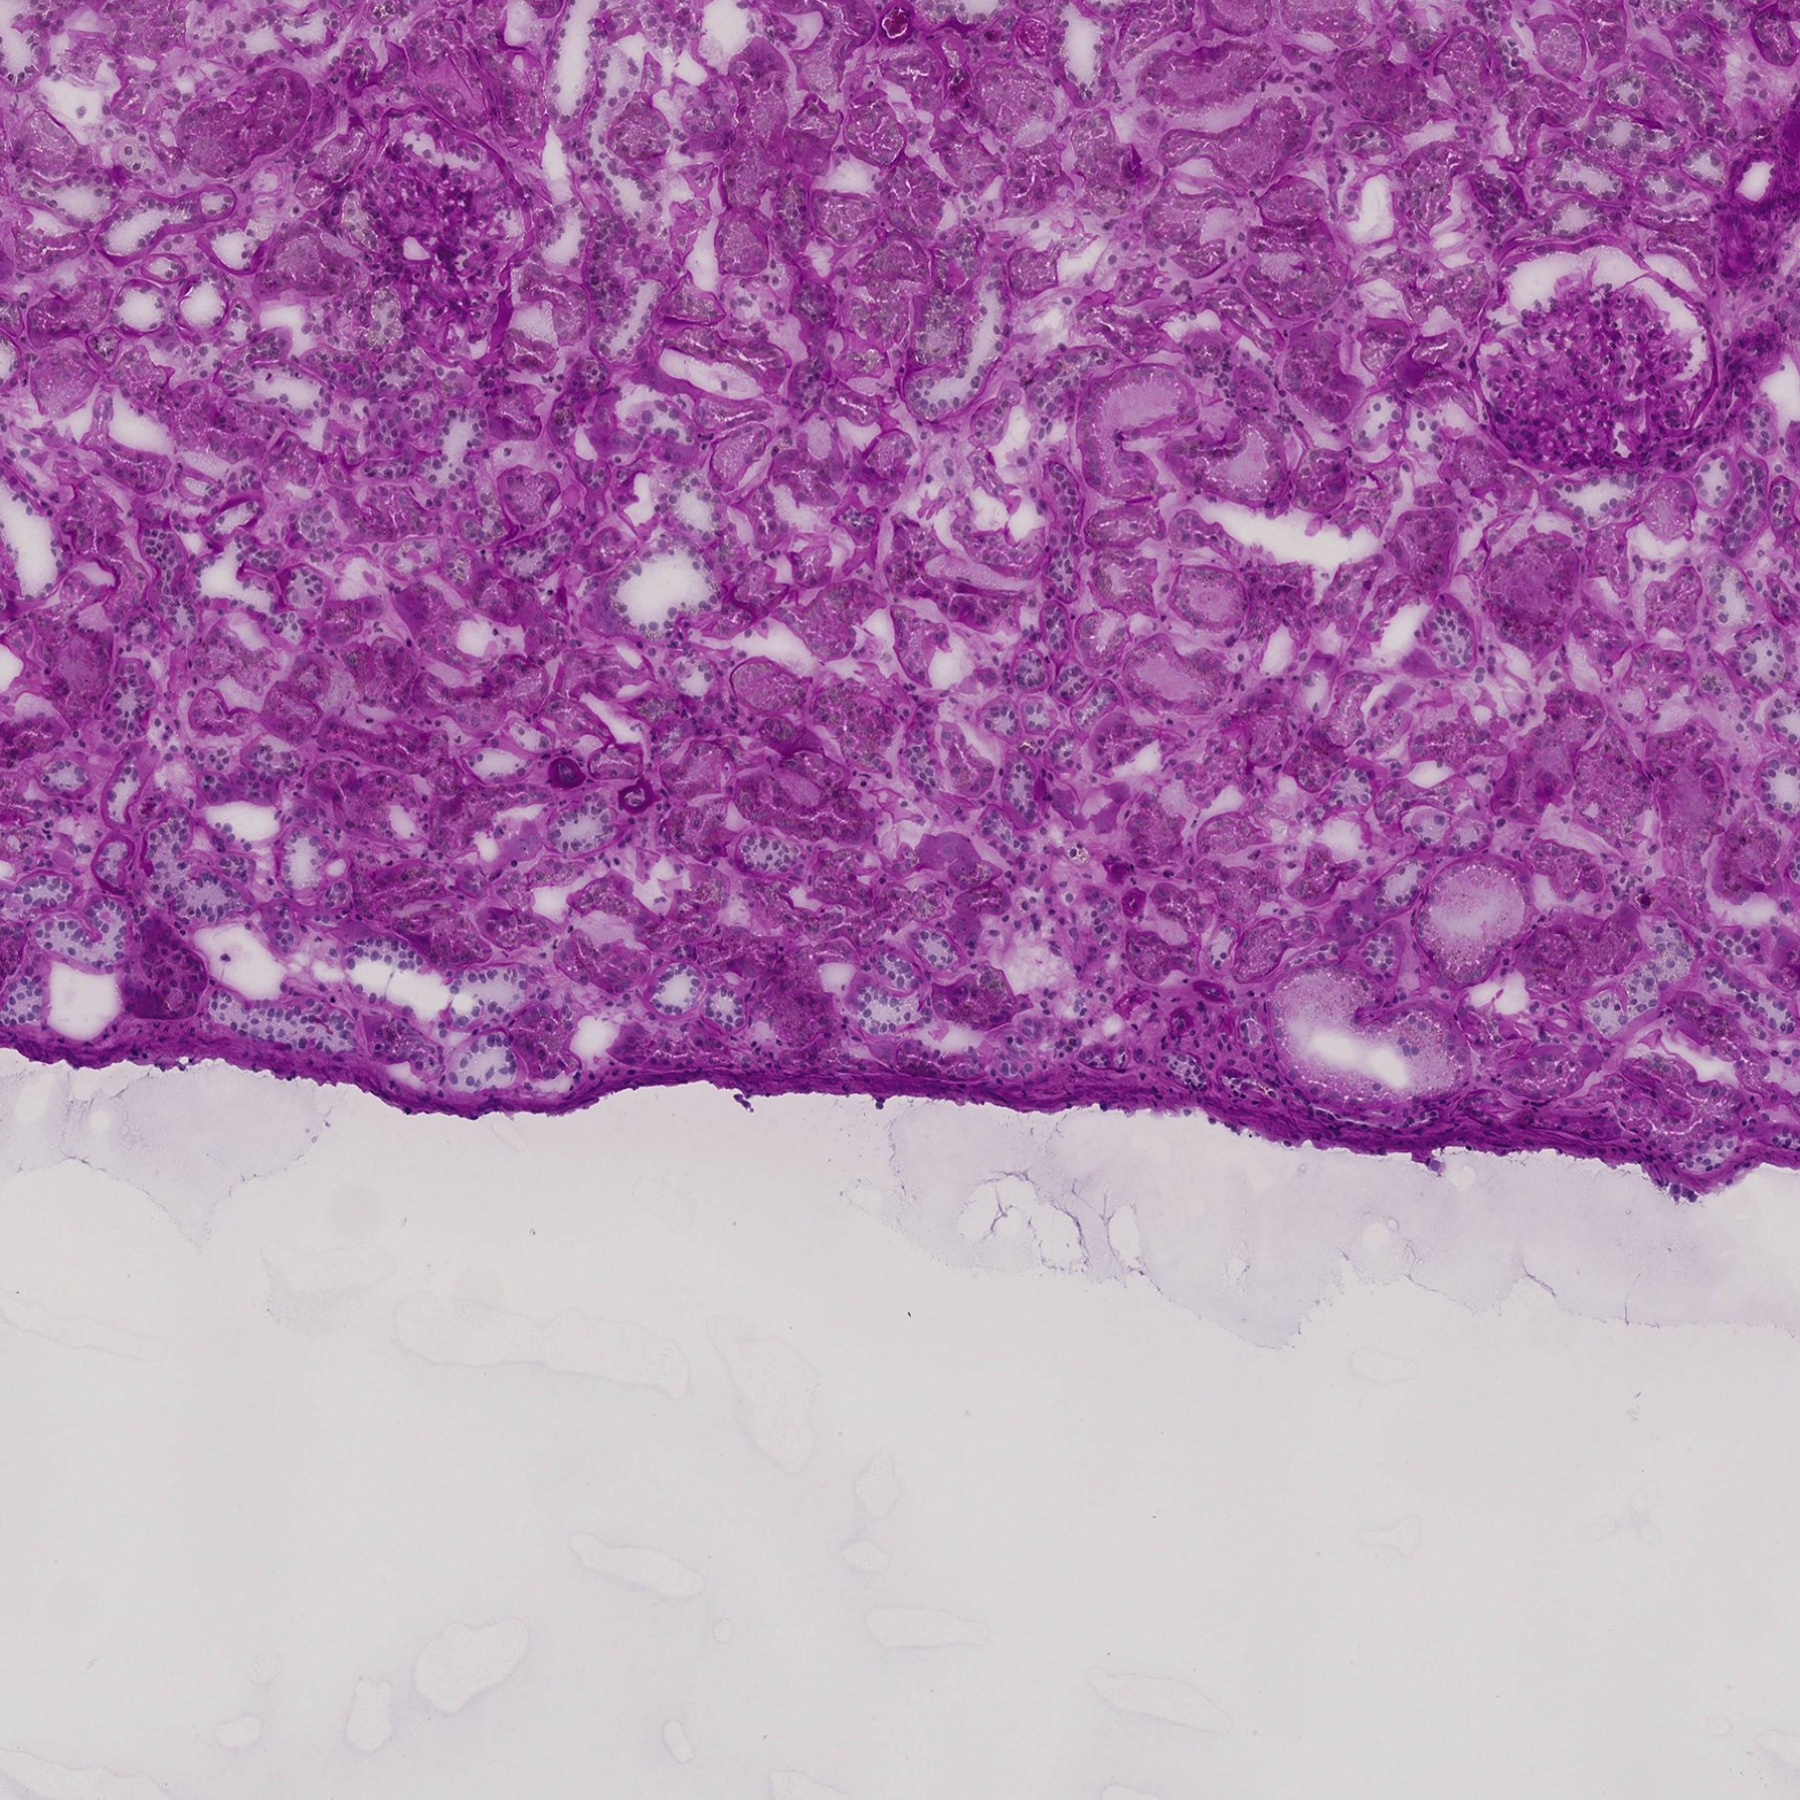Glomeruli: (1472, 242, 1719, 481)
